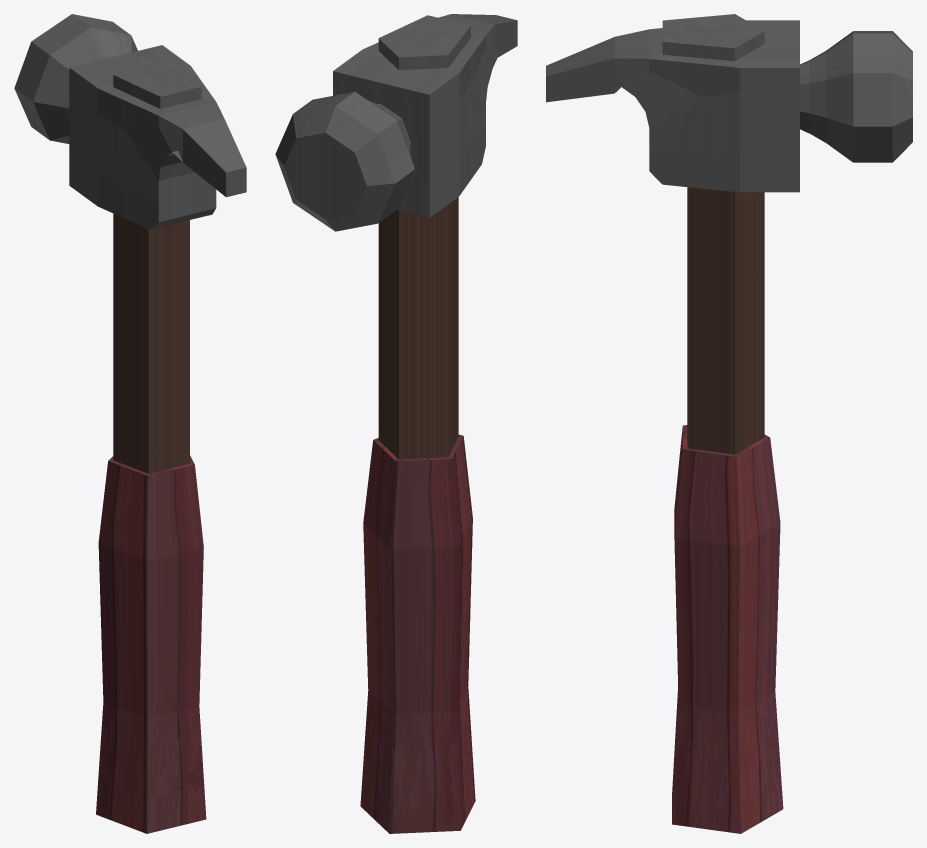
File: Hammer.fbx
The picture shows the model from 3 angles, left to right: view 1: azimuth 30°, elevation 25°; view 2: azimuth 150°, elevation 25°; view 3: azimuth 270°, elevation 25°; orthographic projection. The views are drawn at different scales.
Parts seen in each view (by area): view 1: Cylinder; view 2: Cylinder; view 3: Cylinder.
Boxes of the visible parts, x1,y1,x2,y2 form: Cylinder: (14,14,246,833); Cylinder: (275,14,517,833); Cylinder: (546,14,912,833).
Bounding box in the file's own units: 68.21 × 418 × 178.
Materials: 3 (3 with a texture image).
